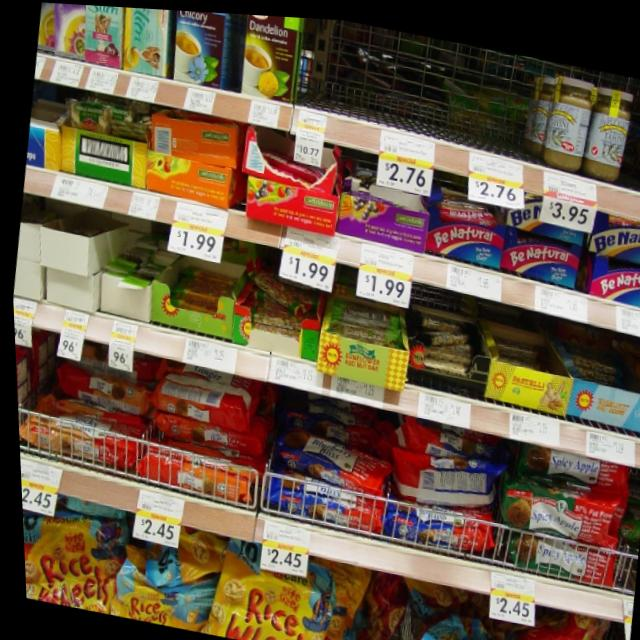q118: (236, 11, 308, 107)
